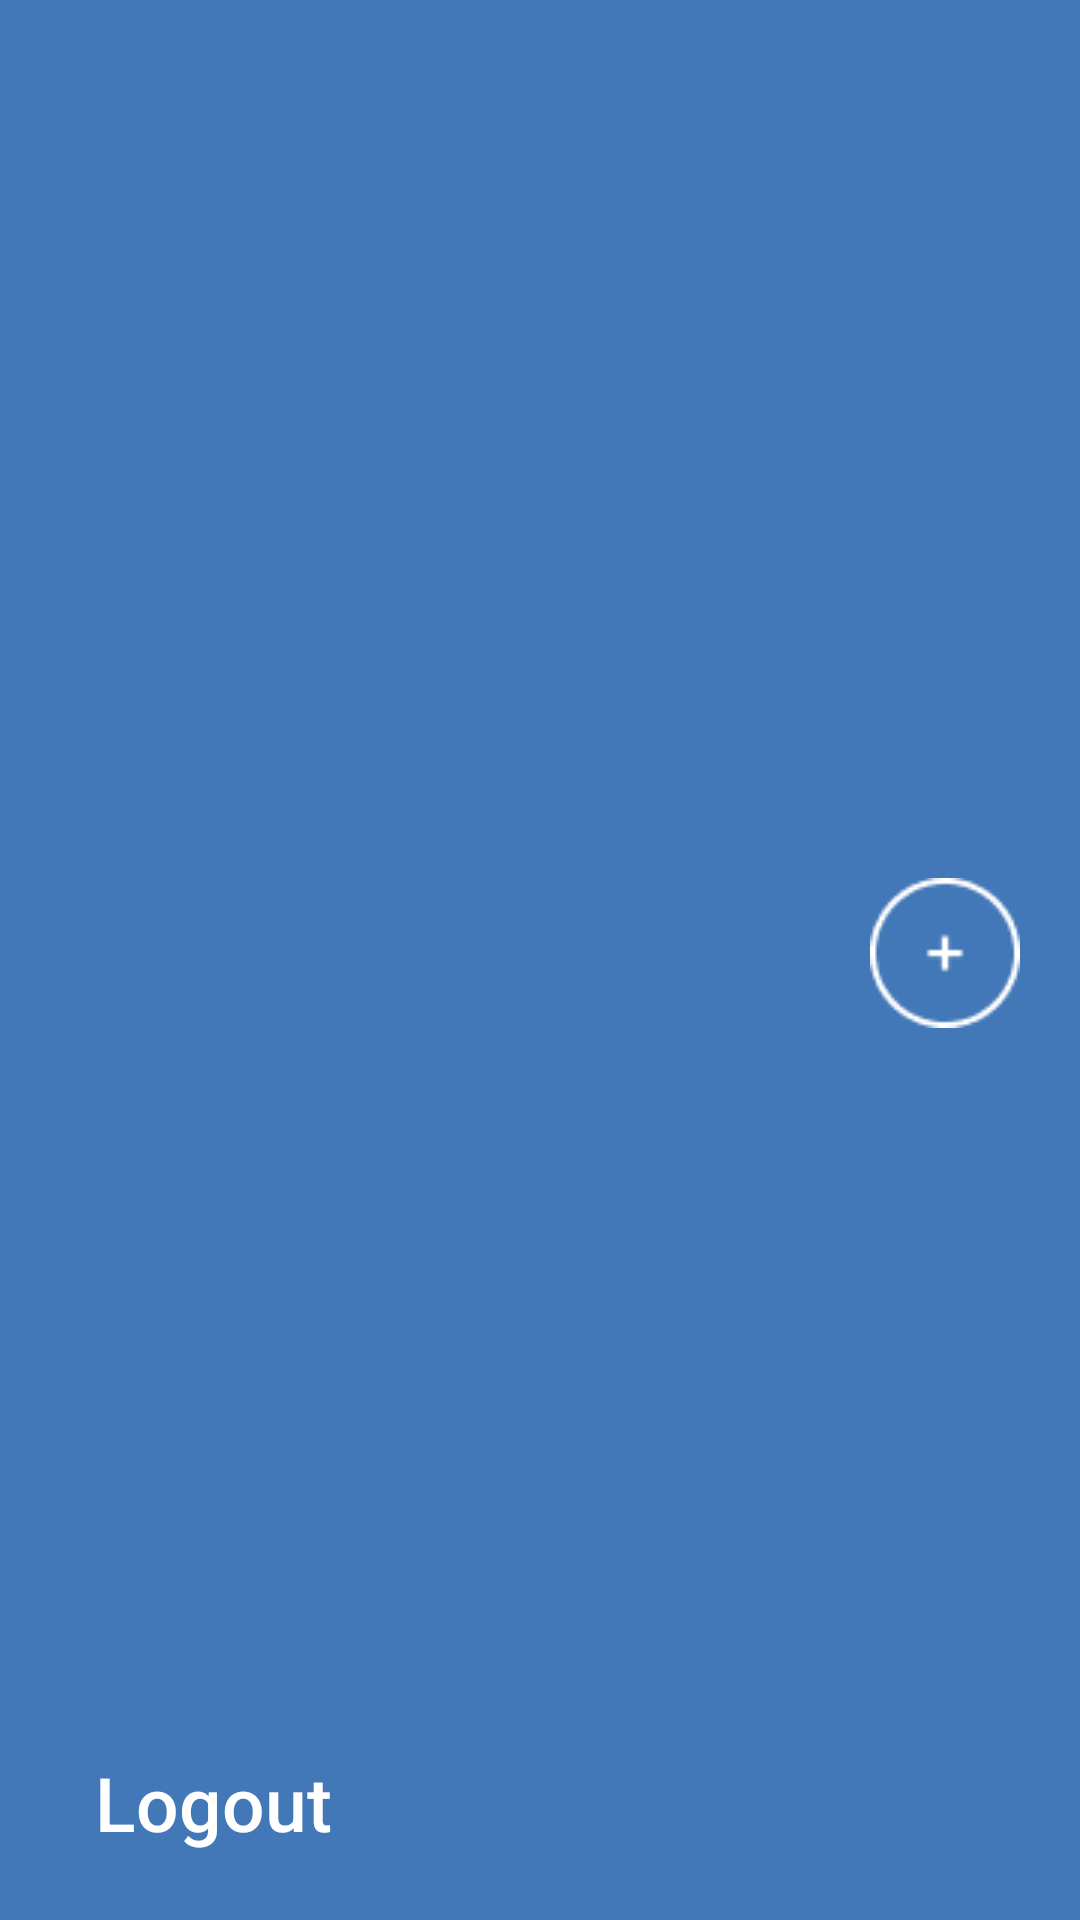

Where to tap for icons on this 1080w x 1920h app screen, as (x=x, y=y):
add: (x=945, y=953)
